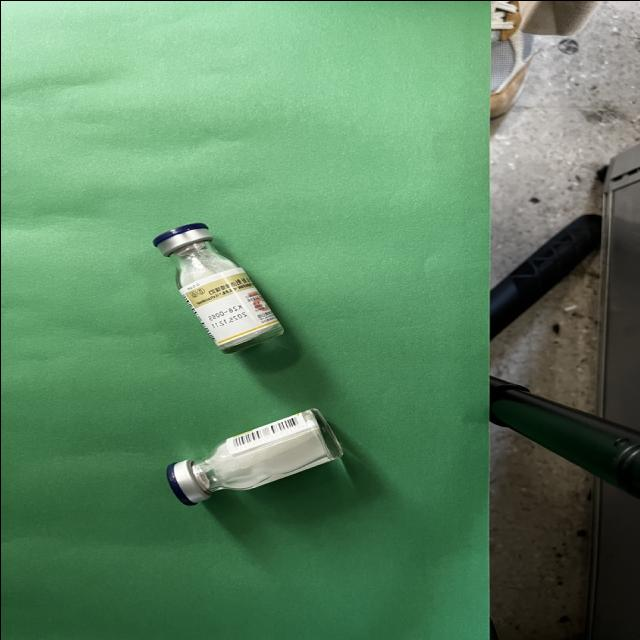Vials: (153, 222, 283, 352), (167, 408, 343, 504)
